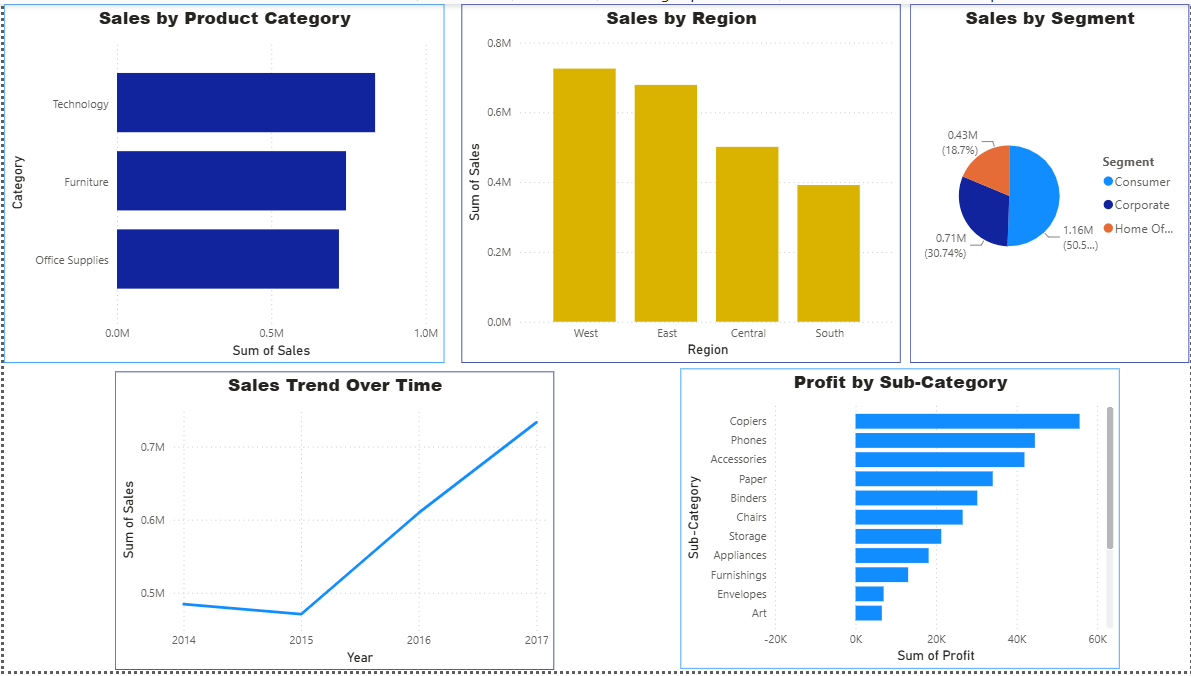

This screenshot's page, from the dashboard's own definition file:
{"tool":"powerbi","page":{"name":"Visuals","canvas":[1280,720],"ordinal":0},"visuals":[{"type":"clusteredBarChart","title":"Sales by Product Category","fields":{"Category":["Sample - Superstore.Category"],"Y":["Sum(Sample - Superstore.Sales)"]},"box":[0,0,475.2,387.6],"z":0},{"type":"lineChart","title":"Sales Trend Over Time","fields":{"Category":["Sample - Superstore.Order Date.Variation.Date Hierarchy.Year","Sample - Superstore.Order Date.Variation.Date Hierarchy.Quarter","Sample - Superstore.Order Date.Variation.Date Hierarchy.Month","Sample - Superstore.Order Date.Variation.Date Hierarchy.Day"],"Y":["Sum(Sample - Superstore.Sales)"]},"box":[120.4,397.3,473.9,322.2],"z":1000},{"type":"clusteredColumnChart","title":"Sales by Region","fields":{"Category":["Sample - Superstore.Region"],"Y":["Sum(Sample - Superstore.Sales)"]},"box":[494,0,474,387],"z":2000},{"type":"clusteredBarChart","title":" Profit by Sub-Category","fields":{"Category":["Sample - Superstore.Sub-Category"],"Y":["Sum(Sample - Superstore.Profit)"]},"box":[730,392.9,473.9,323.9],"z":3000},{"type":"pieChart","title":" Sales by Segment","fields":{"Category":["Sample - Superstore.Segment"],"Y":["Sum(Sample - Superstore.Sales)"]},"box":[978.3,0,301.3,387.6],"z":4000}]}

Visuals, with their boxes in screenshot pixels (x1, y1, x2, y2), scaled from the page's 1280x720 canvas onto the 1191x676 screenshot:
"Sales by Product Category" clusteredBarChart: bbox(0, 0, 442, 364)
"Sales Trend Over Time" lineChart: bbox(112, 373, 553, 675)
"Sales by Region" clusteredColumnChart: bbox(460, 0, 901, 363)
" Profit by Sub-Category" clusteredBarChart: bbox(679, 369, 1120, 673)
" Sales by Segment" pieChart: bbox(910, 0, 1190, 364)
